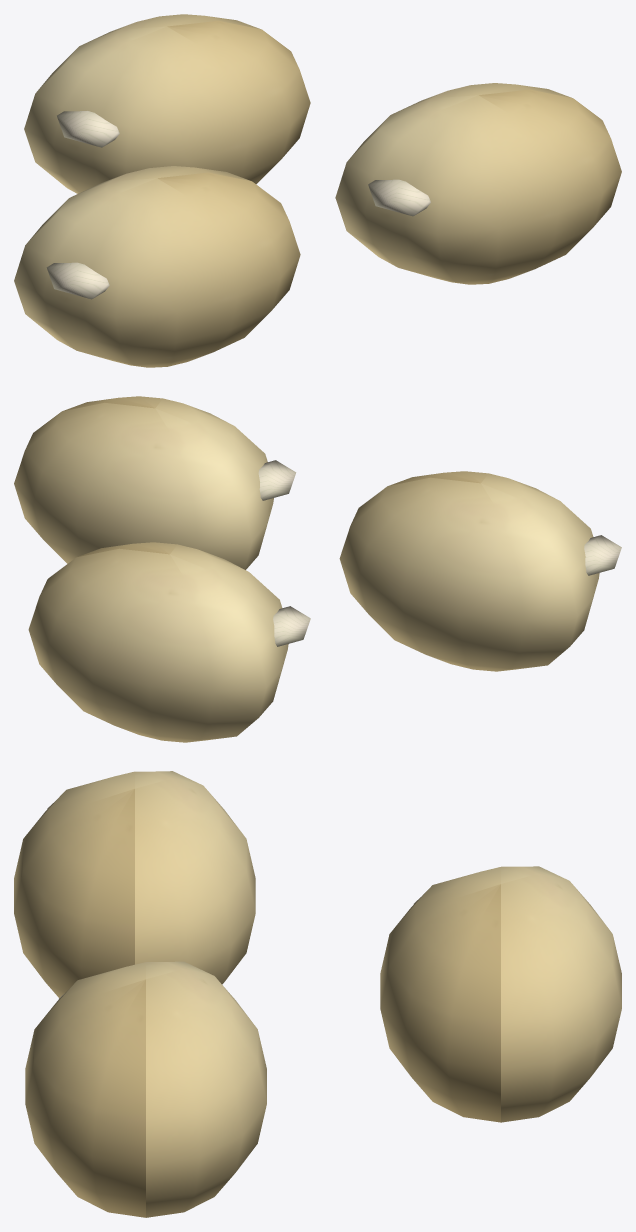
The model's file is NP_GreenBean_Seed.fbx.
3 views of the same model, one above another, from view 1: azimuth 30°, elevation 25°; view 2: azimuth 150°, elevation 25°; view 3: azimuth 270°, elevation 25° (orthographic). The views are drawn at different scales.
Visible parts, largest first — view 1: NP_GreenBean_Seed; view 2: NP_GreenBean_Seed; view 3: NP_GreenBean_Seed.
Boxes of the visible parts, x1,y1,x2,y2 form: NP_GreenBean_Seed: (14, 14, 621, 367); NP_GreenBean_Seed: (14, 396, 621, 742); NP_GreenBean_Seed: (14, 771, 621, 1217).
Size of the model in its own units: 14.26 by 4.2 by 10.79.
